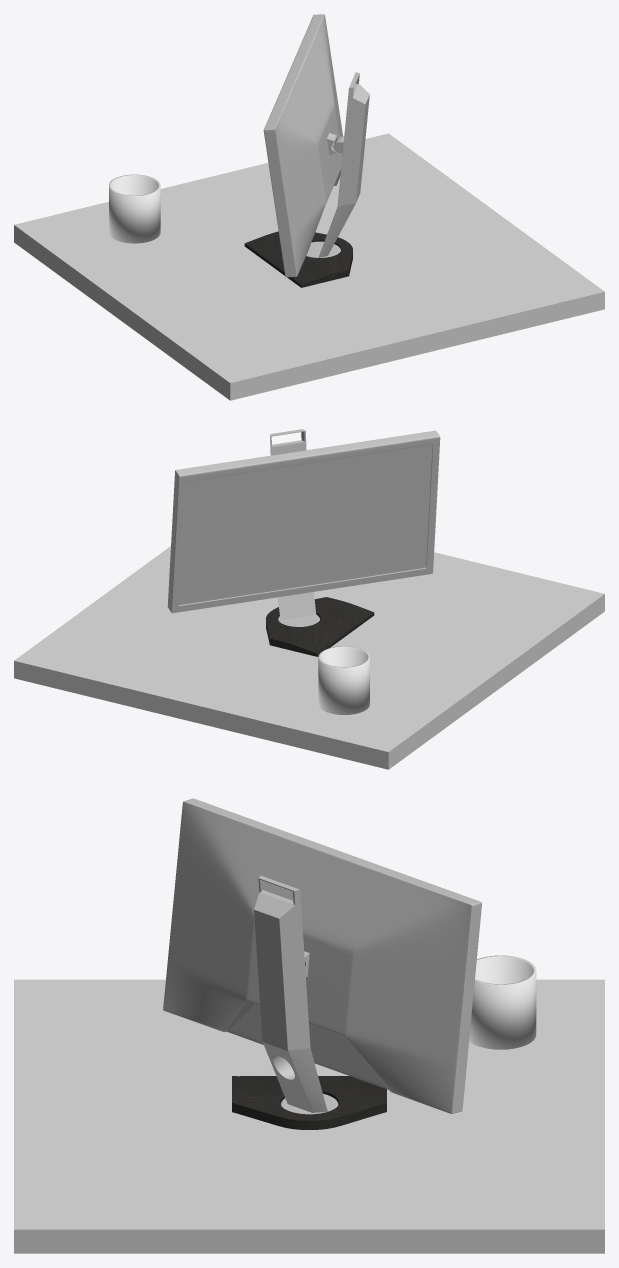
The model's file is monitor_part5.fbx.
3 views of the same model, one above another, from view 1: azimuth 30°, elevation 25°; view 2: azimuth 150°, elevation 25°; view 3: azimuth 270°, elevation 25° (orthographic). The views are drawn at different scales.
Visible parts, largest first — view 1: Стол, Монитор, Ножка, Стакан, Подставка; view 2: Стол, Монитор, Подставка, Стакан, Ножка; view 3: Стол, Монитор, Ножка, Стакан, Подставка.
Part boxes in pixels (x1=…): Стол: x1=14, y1=133, x2=604, y2=400; Монитор: x1=263, y1=14, x2=342, y2=277; Ножка: x1=306, y1=72, x2=369, y2=257; Стакан: x1=109, y1=174, x2=160, y2=243; Подставка: x1=244, y1=231, x2=352, y2=287; Стол: x1=14, y1=546, x2=604, y2=769; Монитор: x1=167, y1=430, x2=440, y2=613; Подставка: x1=266, y1=597, x2=374, y2=656; Стакан: x1=318, y1=646, x2=369, y2=714; Ножка: x1=270, y1=429, x2=319, y2=626; Стол: x1=14, y1=979, x2=604, y2=1253; Монитор: x1=163, y1=798, x2=481, y2=1113; Ножка: x1=254, y1=875, x2=338, y2=1114; Стакан: x1=469, y1=955, x2=536, y2=1049; Подставка: x1=232, y1=1076, x2=386, y2=1129.
Bounding box in the file's own units: 200 × 102 × 200.
